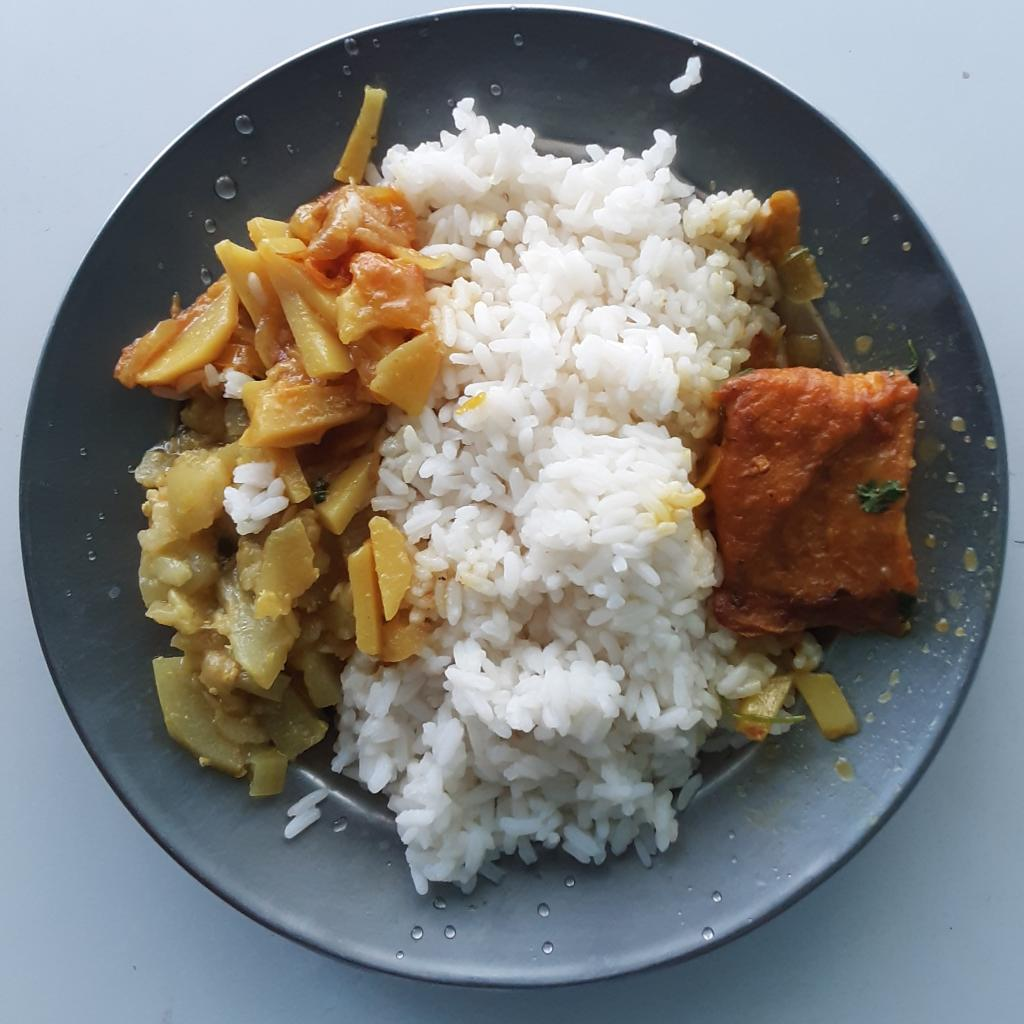fish: (704, 362, 924, 637)
lau: (132, 395, 350, 805)
potato: (111, 81, 437, 665)
rice: (332, 89, 827, 901)
